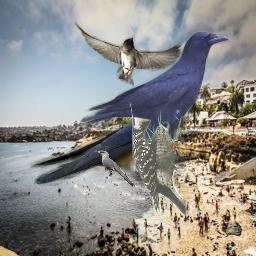Crow: (79, 30, 229, 151)
Cuckoo: (93, 150, 135, 187)
Swallow: (4, 79, 190, 186), (72, 20, 184, 87)
Woodpecker: (132, 103, 191, 217)
